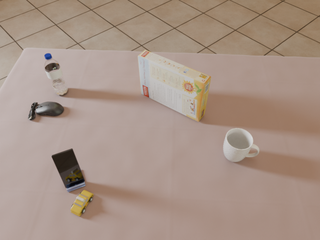bottle: (44, 53, 68, 95)
box: (138, 50, 211, 122)
cup: (223, 128, 259, 162)
mouse: (28, 102, 64, 120)
phone: (52, 149, 85, 188)
toy_car: (71, 190, 93, 216)
